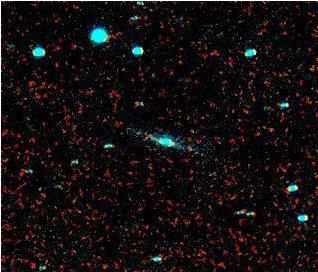star: (176, 133, 206, 163)
